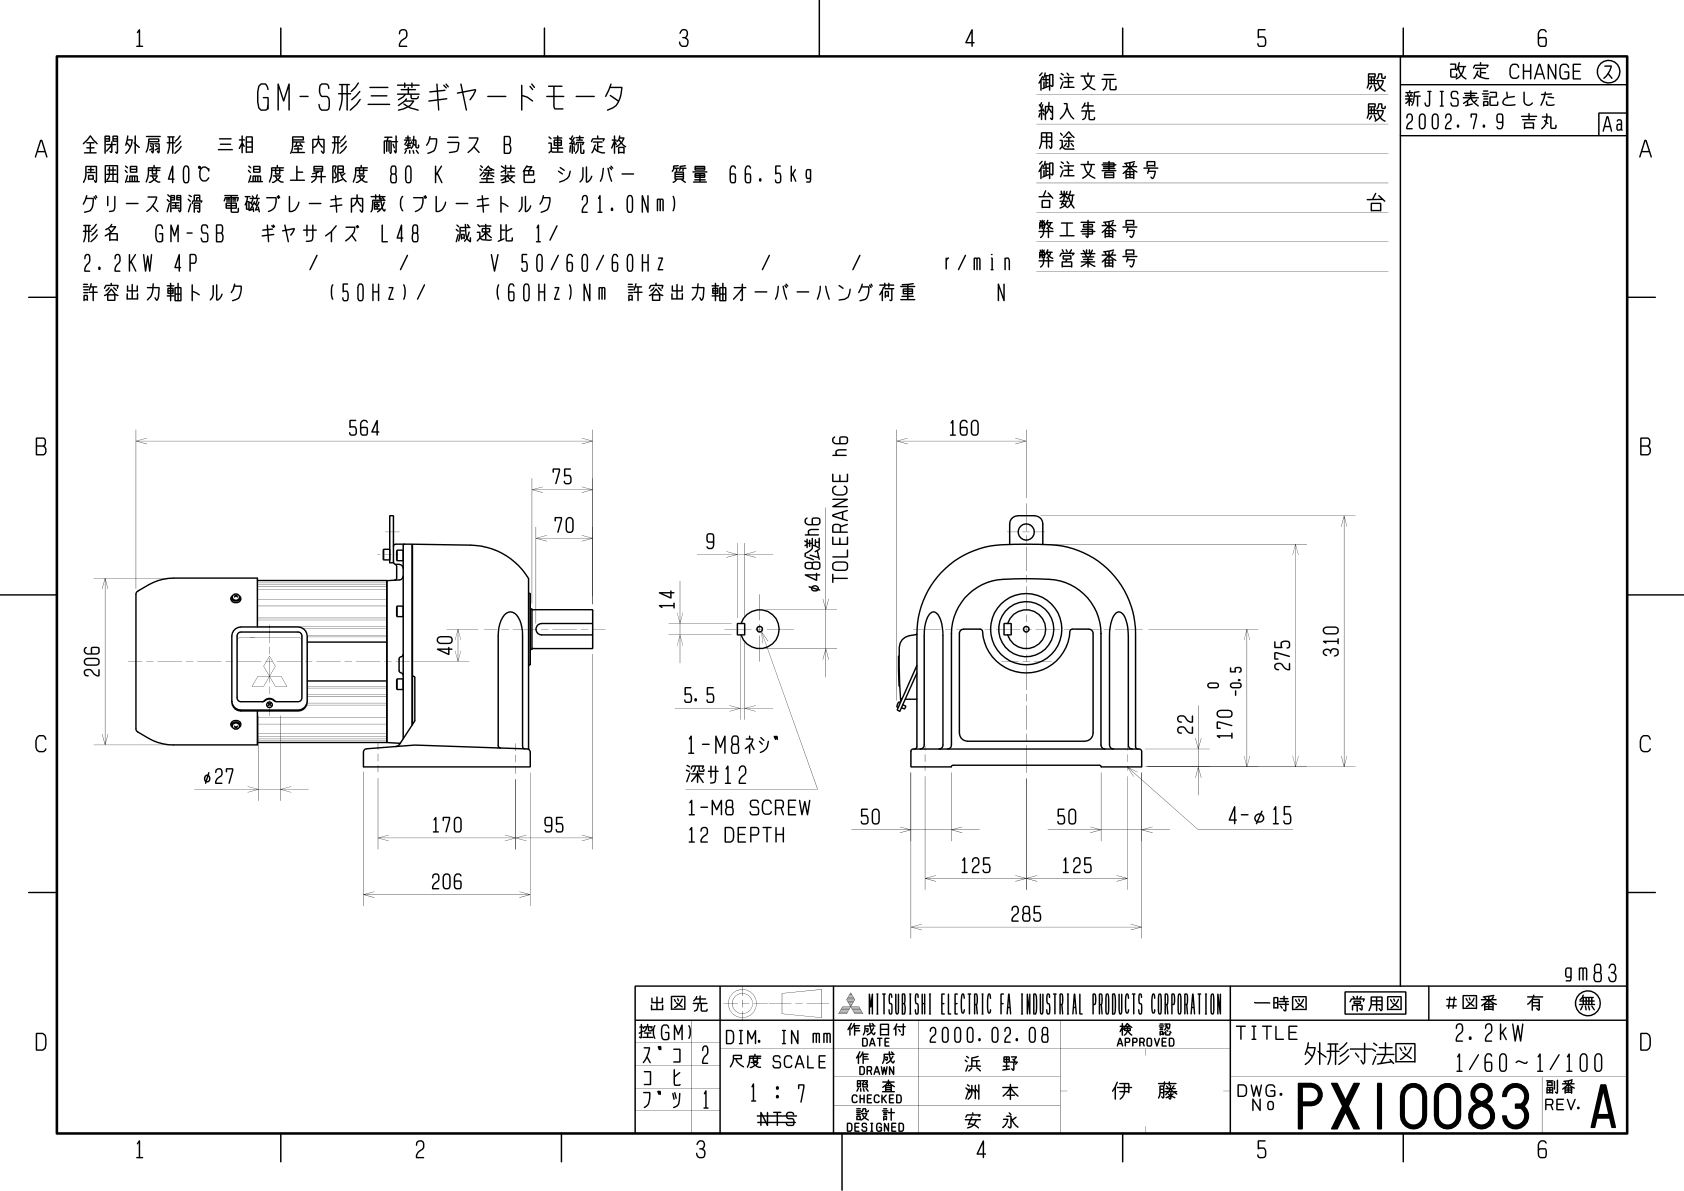GM_S_屋内＿三相_脚: (71, 345, 1383, 955)
